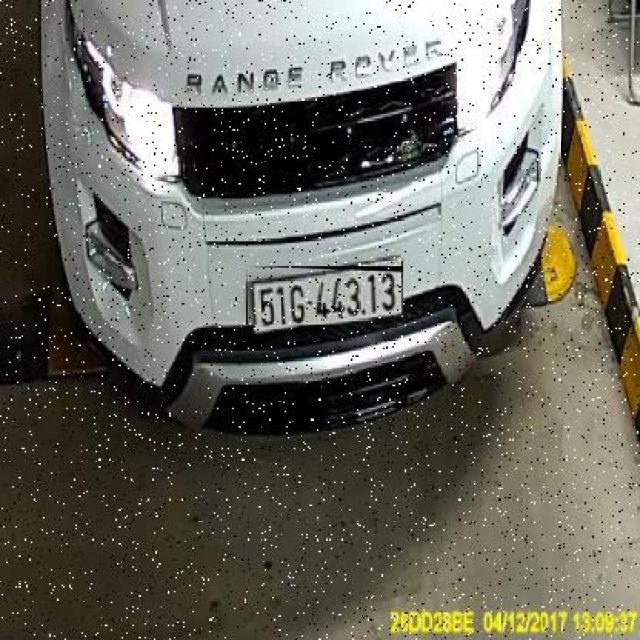number_plate: (246, 266, 403, 325)
